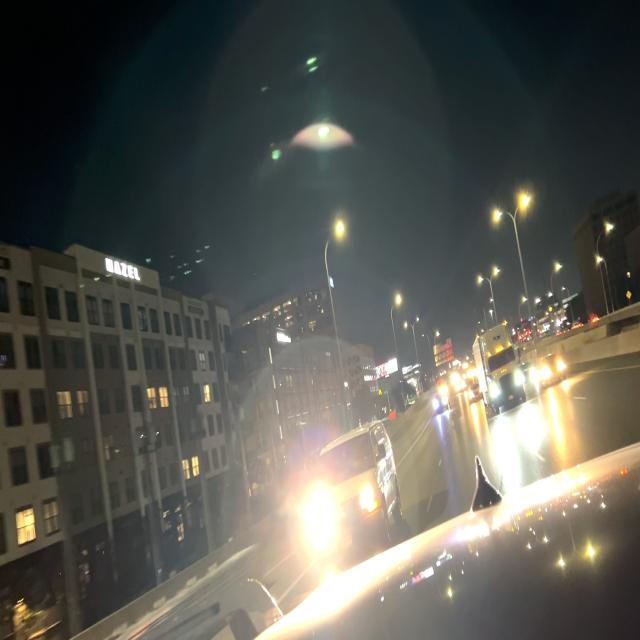back-of-sign: (433, 337, 454, 368)
